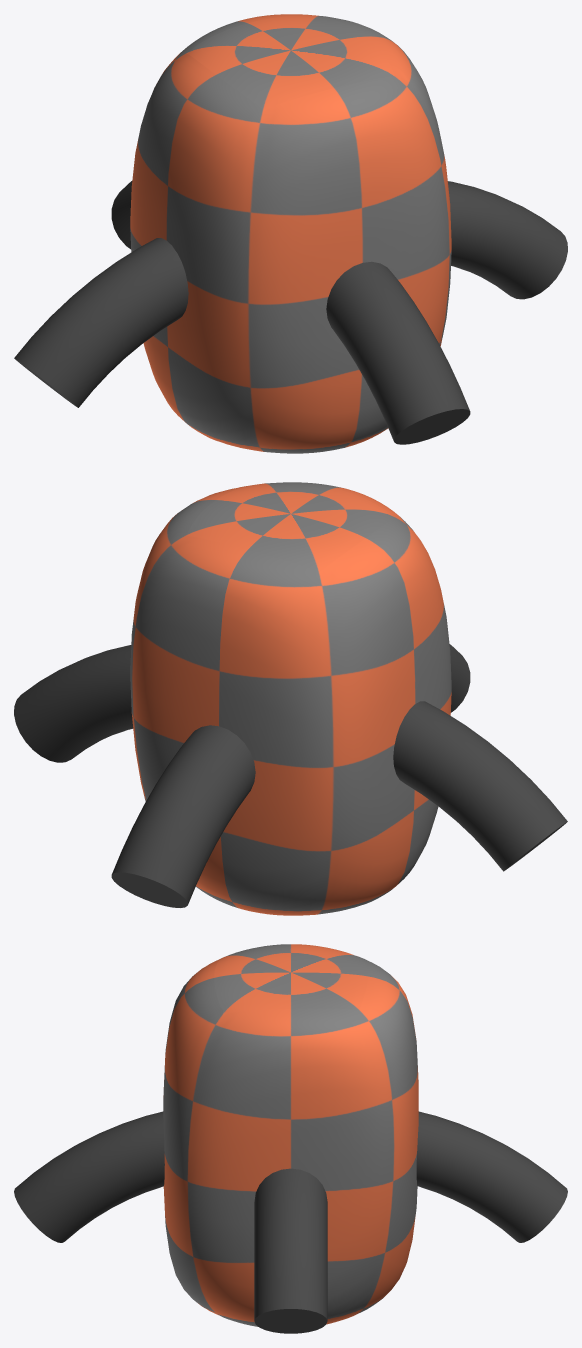
Rendered from Body(Oblong)+Colour(More_Orange)+Arms(Bent_Down)+Pattern(Checkered).fbx.
3 views of the same model, one above another, from view 1: azimuth 30°, elevation 25°; view 2: azimuth 150°, elevation 25°; view 3: azimuth 270°, elevation 25° (orthographic). The views are drawn at different scales.
Parts seen in each view (by area): view 1: Body(Oblong)+Colour(More_Orange)+Arms(Bent_Down)+Pattern(Che (×5); view 2: Body(Oblong)+Colour(More_Orange)+Arms(Bent_Down)+Pattern(Che (×5); view 3: Body(Oblong)+Colour(More_Orange)+Arms(Bent_Down)+Pattern(Che (×4).
Part boxes in pixels (x1,y1,x2,y2): Body(Oblong)+Colour(More_Orange)+Arms(Bent_Down)+Pattern(Che (×5): (14,14,567,453); Body(Oblong)+Colour(More_Orange)+Arms(Bent_Down)+Pattern(Che (×5): (14,482,567,915); Body(Oblong)+Colour(More_Orange)+Arms(Bent_Down)+Pattern(Che (×4): (14,944,567,1333).
Size of the model in its own units: 60.67 by 40 by 60.67.
2 materials, 2 textured.
